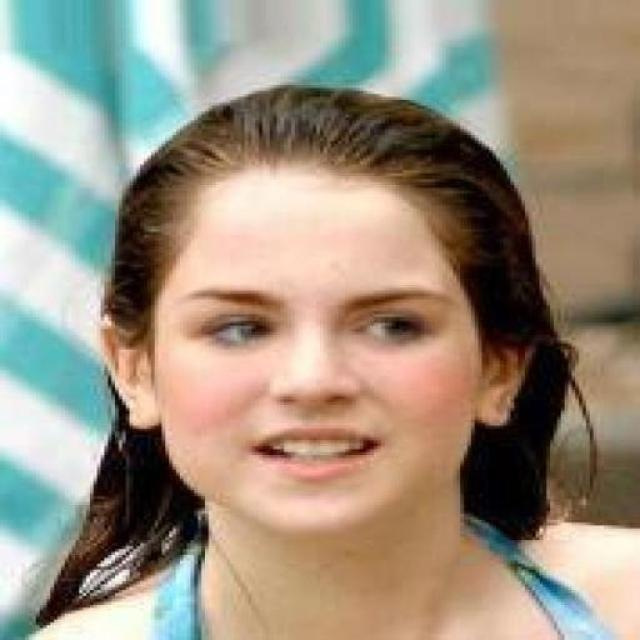bareface: (101, 93, 554, 528)
